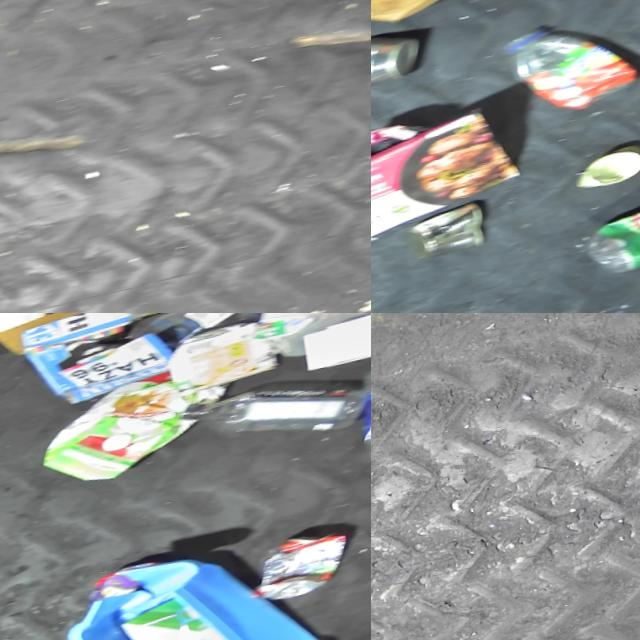can: (162, 318, 286, 404), (250, 528, 364, 612), (408, 203, 502, 270), (371, 25, 433, 107), (574, 146, 640, 200), (0, 313, 68, 347)
milk_jug: (247, 313, 371, 370)
non_white_jug: (57, 524, 349, 640), (34, 362, 244, 497)
plastic_bottle: (177, 365, 371, 471), (581, 175, 640, 290)
